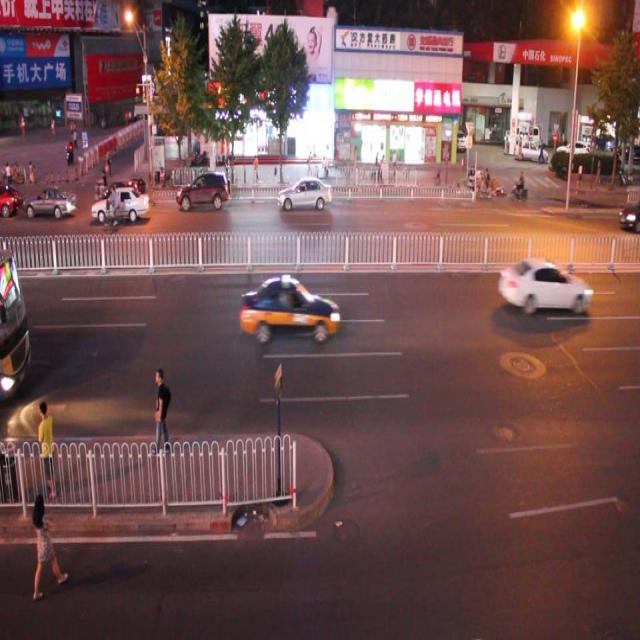car: (238, 272, 339, 345), (498, 255, 592, 318), (175, 170, 231, 216), (278, 175, 332, 217), (23, 186, 78, 226), (91, 185, 149, 222), (101, 180, 145, 223), (614, 198, 640, 234)
